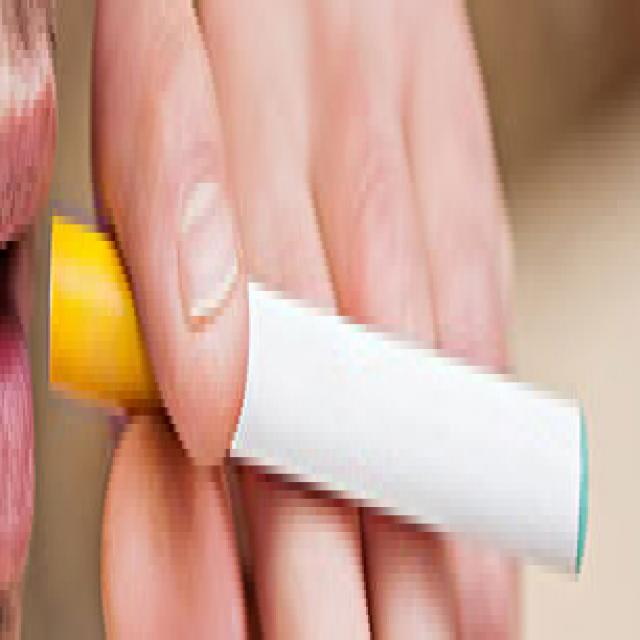smoking: (48, 210, 589, 572)
